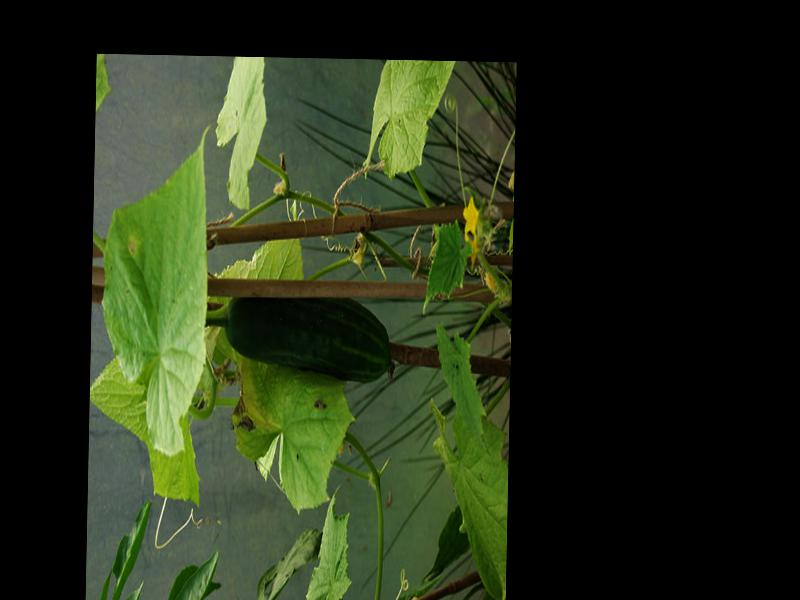Cucumber: (223, 295, 395, 385)
